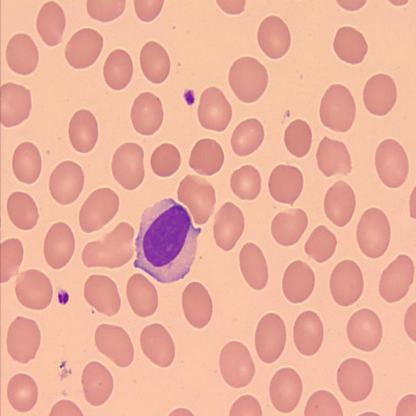Atypical lymphocyte: (134, 195, 202, 283)
